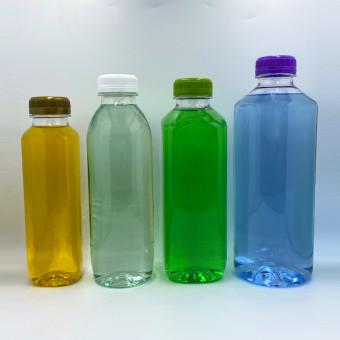bottle: (231, 55, 318, 287), (159, 78, 228, 283), (105, 73, 135, 289), (3, 96, 30, 287)
